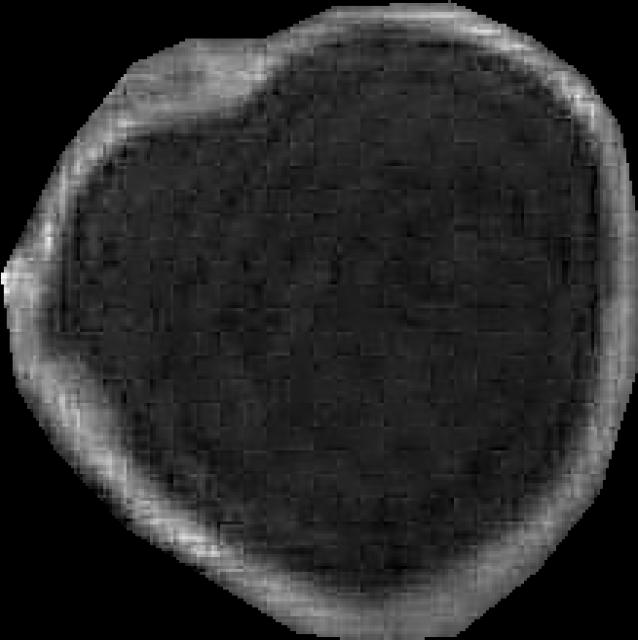tumor_moderate_chance: (1, 0, 638, 640)
